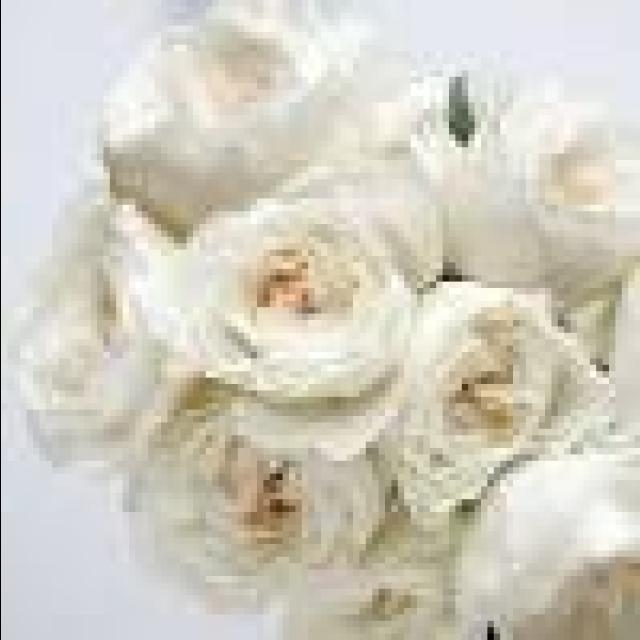rose: (153, 140, 430, 438)
